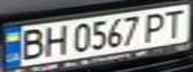0: (69, 20, 93, 53)
5: (90, 18, 109, 51)
6: (106, 16, 127, 48)
7: (118, 12, 145, 46)
B: (12, 26, 48, 61)
H: (39, 24, 69, 56)
P: (139, 10, 172, 43)
T: (157, 7, 190, 38)
